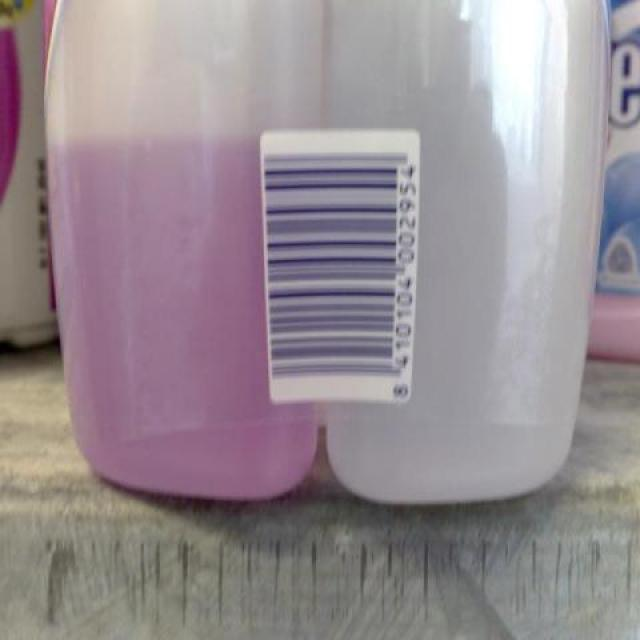Barcode: (259, 129, 420, 403)
